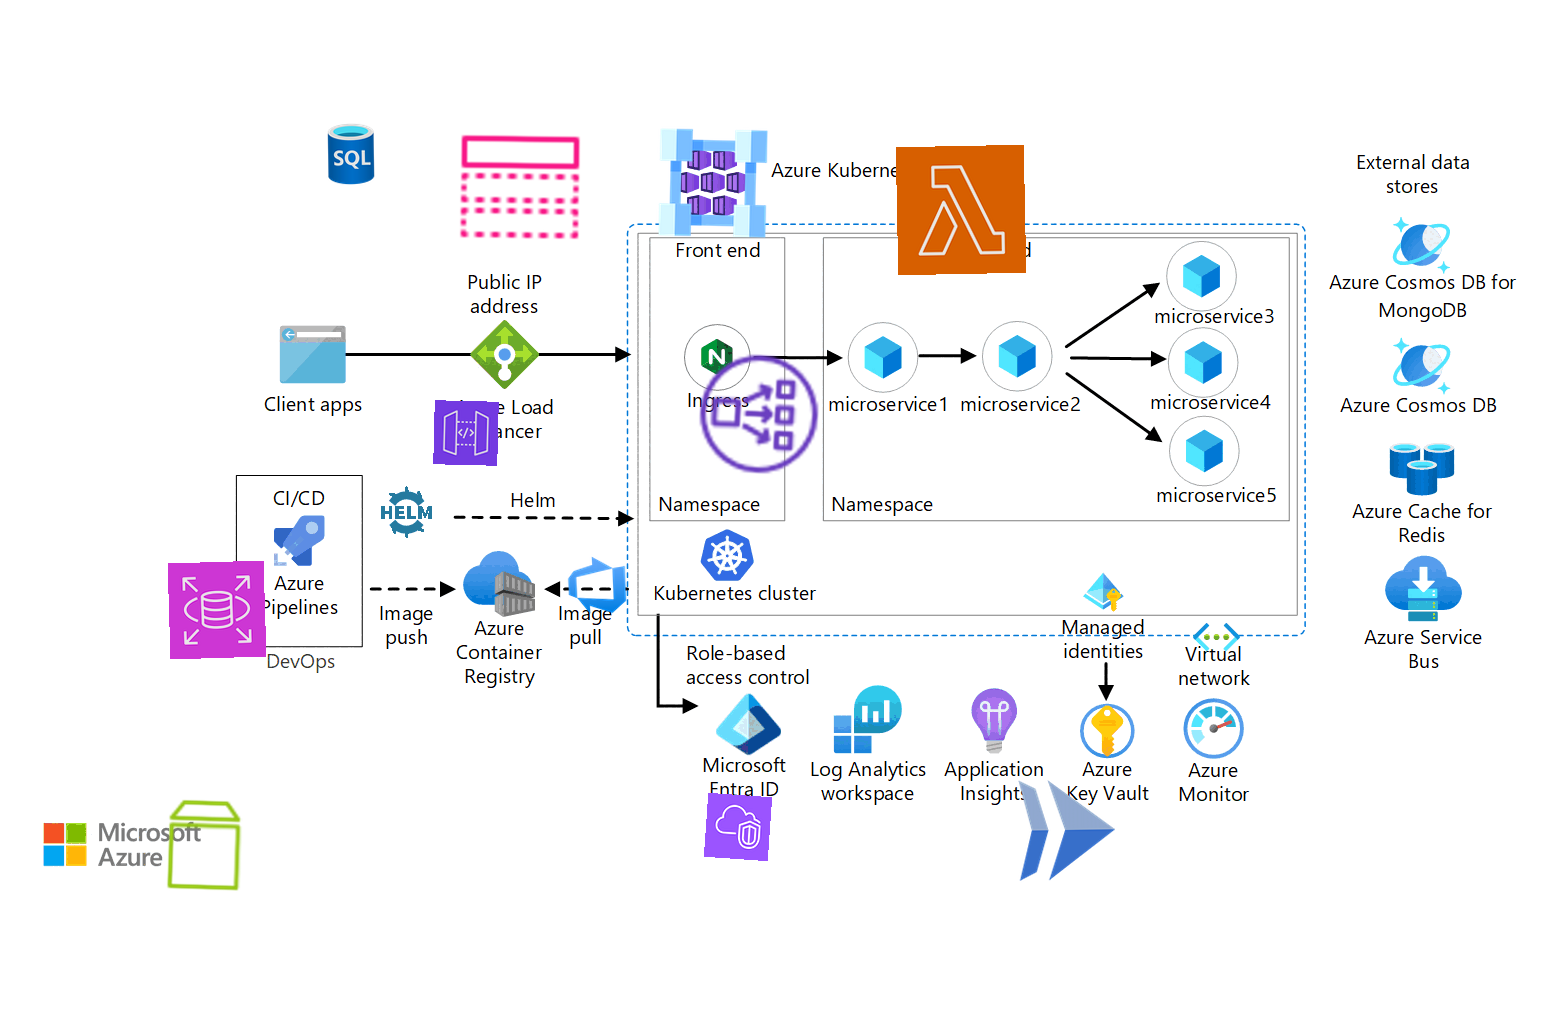aws_amazon_api_gateway: (433, 400, 500, 467)
aws_amazon_rds: (167, 560, 267, 660)
aws_amazon_virtual_private_cloud: (703, 792, 773, 862)
aws_elastic_block_store_volume: (155, 795, 255, 895)
aws_elastic_load_balancing_network_load_balancer: (692, 347, 826, 481)
aws_lambda: (895, 144, 1027, 276)
aws_simple_notification_service_topic: (455, 121, 585, 252)
azure_devops: (563, 551, 631, 619)
azure_sql_database: (319, 121, 384, 187)
gcp_cloud_run: (1000, 765, 1130, 895)
gcp_virtual_private_cloud: (647, 117, 779, 249)
